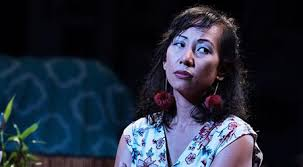asian_female: (159, 1, 256, 115)
